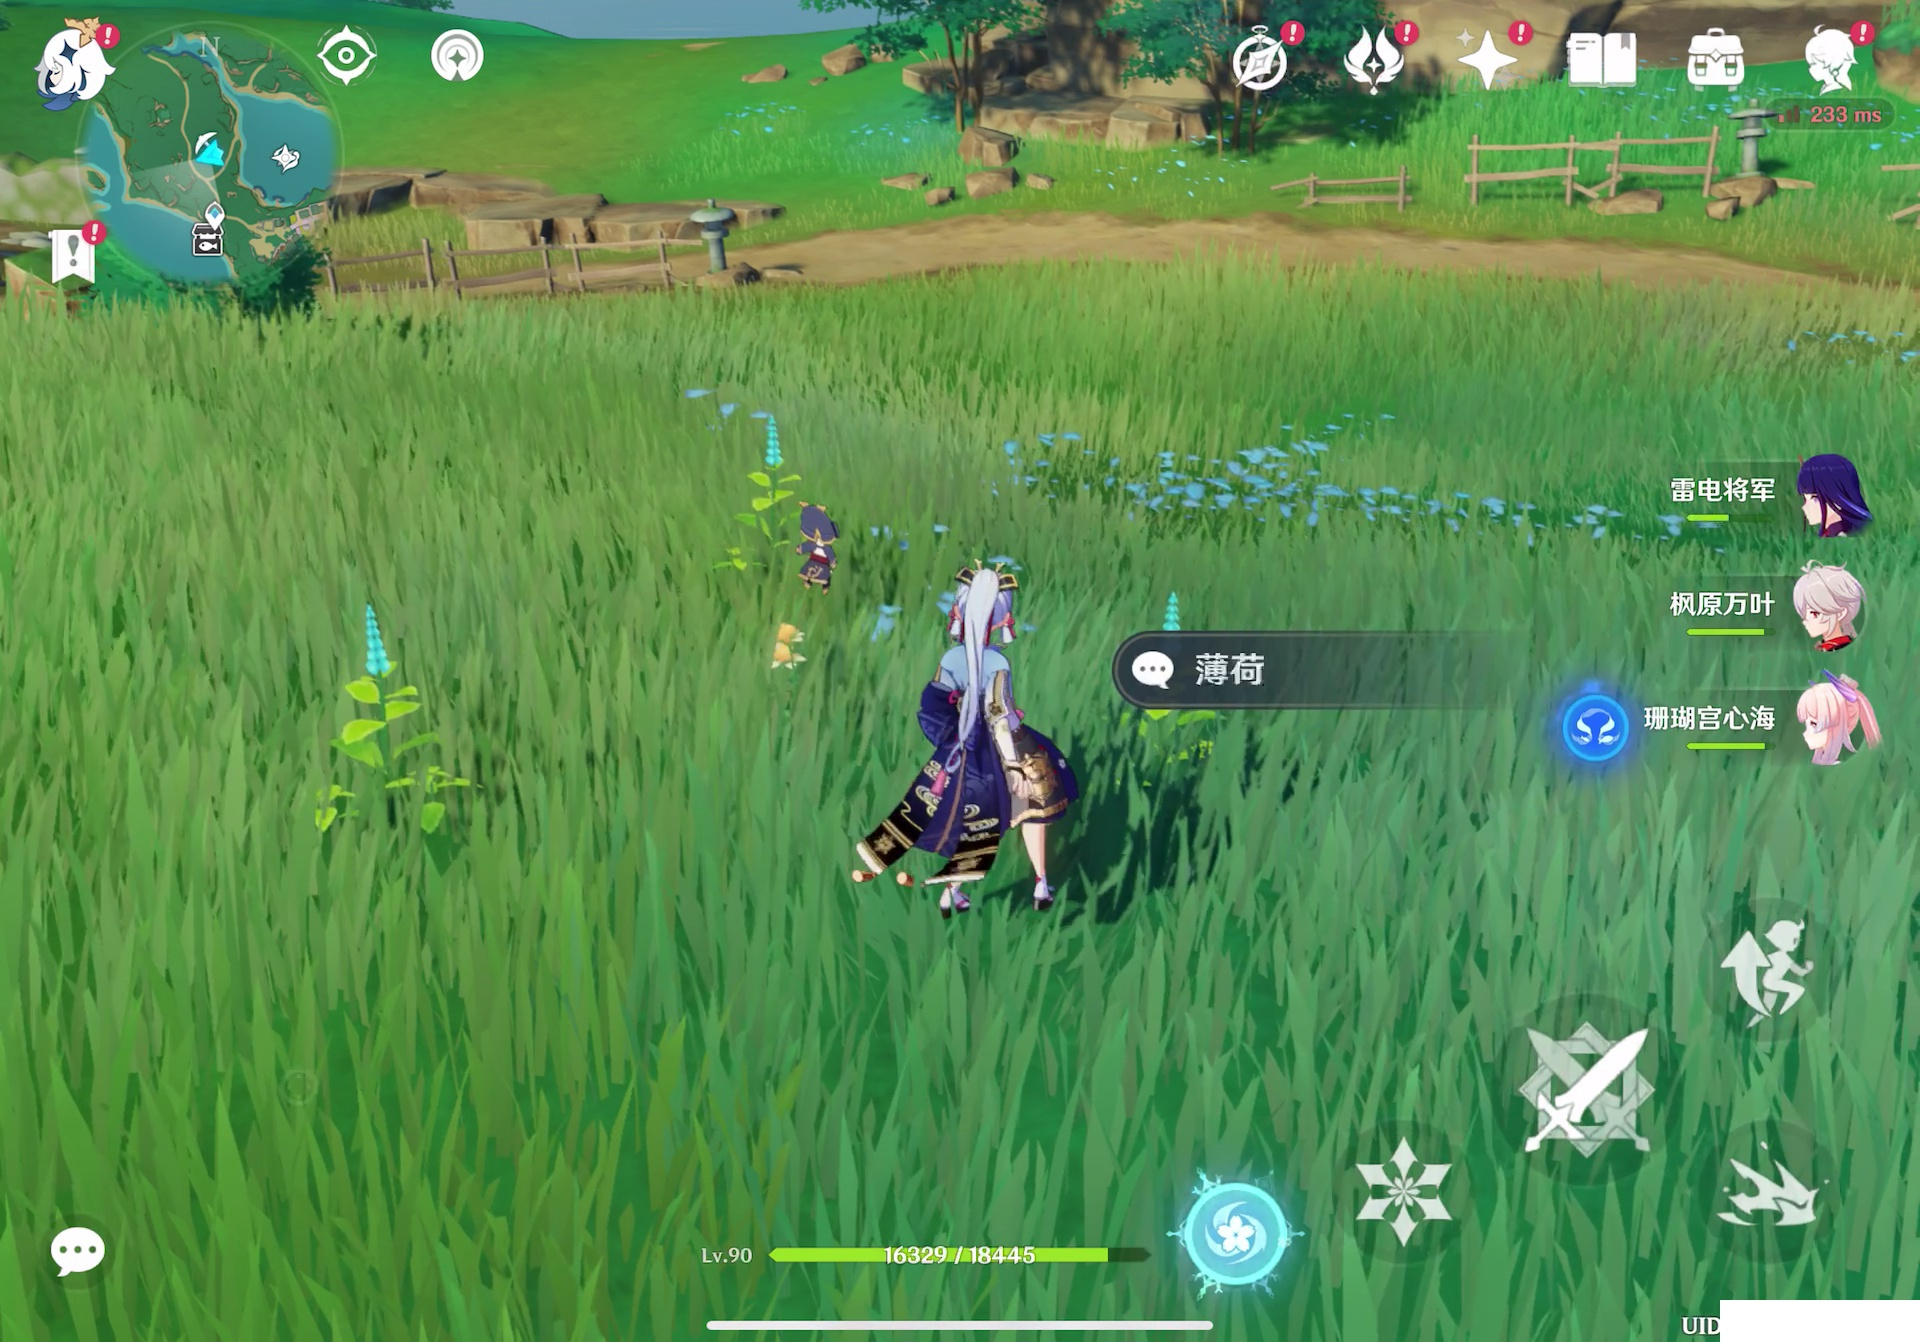没用的甜甜花: (743, 614, 816, 700)
没用的薄荷: (303, 591, 479, 861), (700, 419, 798, 581)
神里绫龟: (840, 554, 1087, 929)
